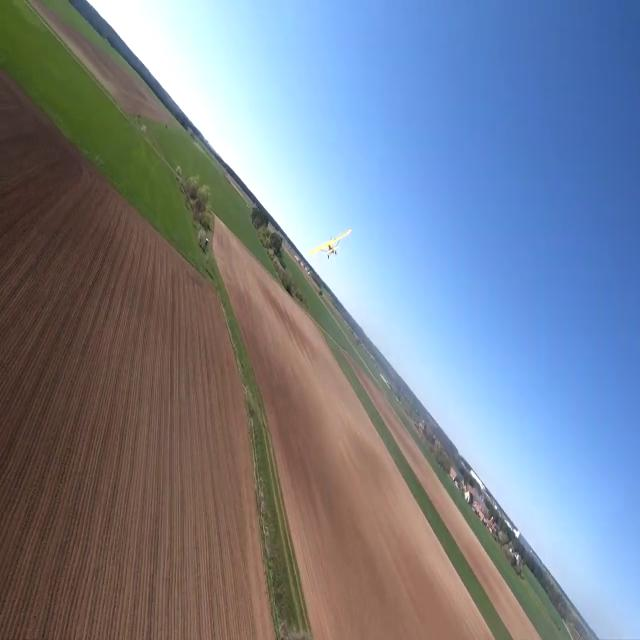iha: (302, 228, 345, 262)
